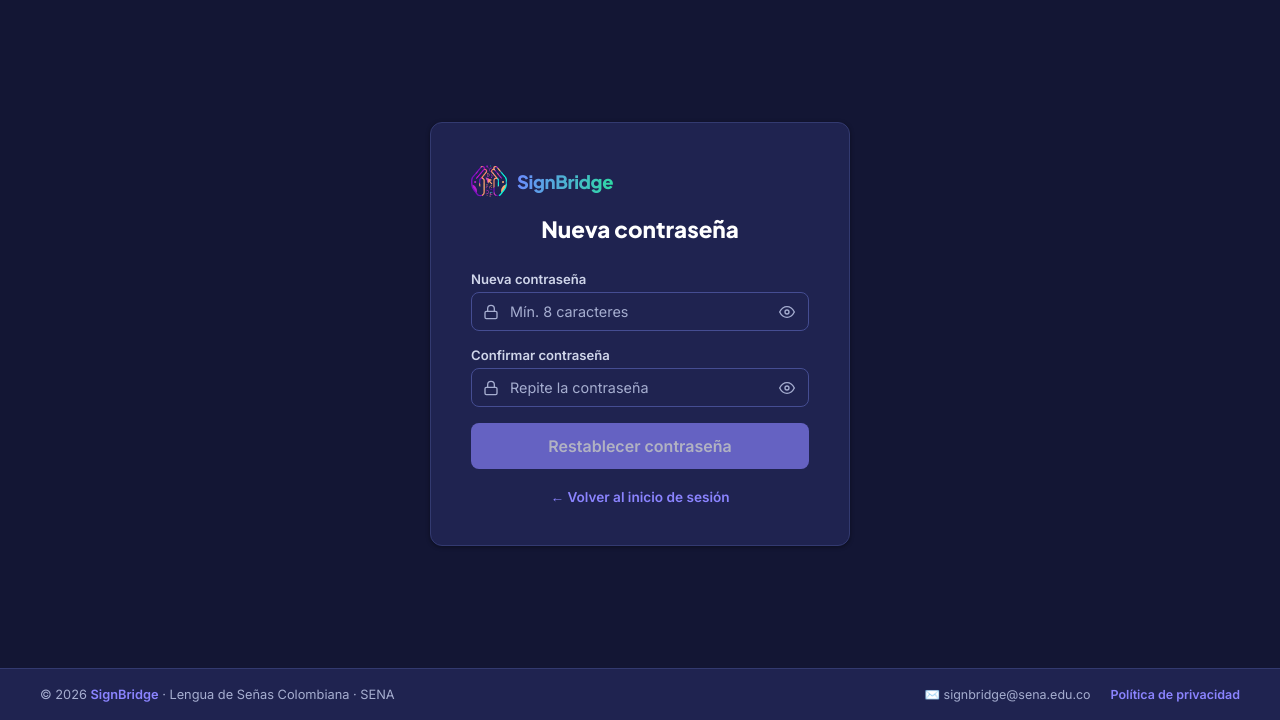
Scenario: ResetPassword › should show the reason when the link expired
Type "Clave123*" into the password field labelled "Nueva contraseña". click: {"x": 640, "y": 312}
box: [471,292,809,331]
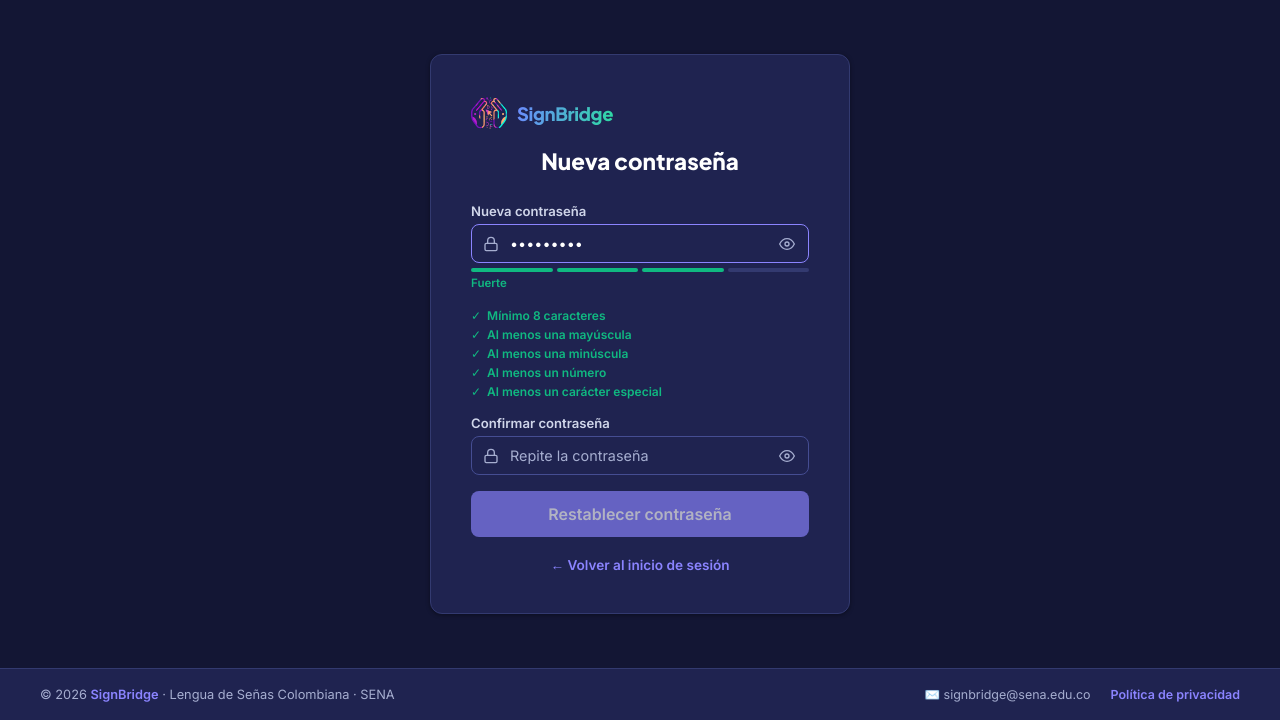
Type "Clave123*" into the password field labelled "Confirmar contraseña". click: {"x": 640, "y": 456}
box: [471,436,809,475]
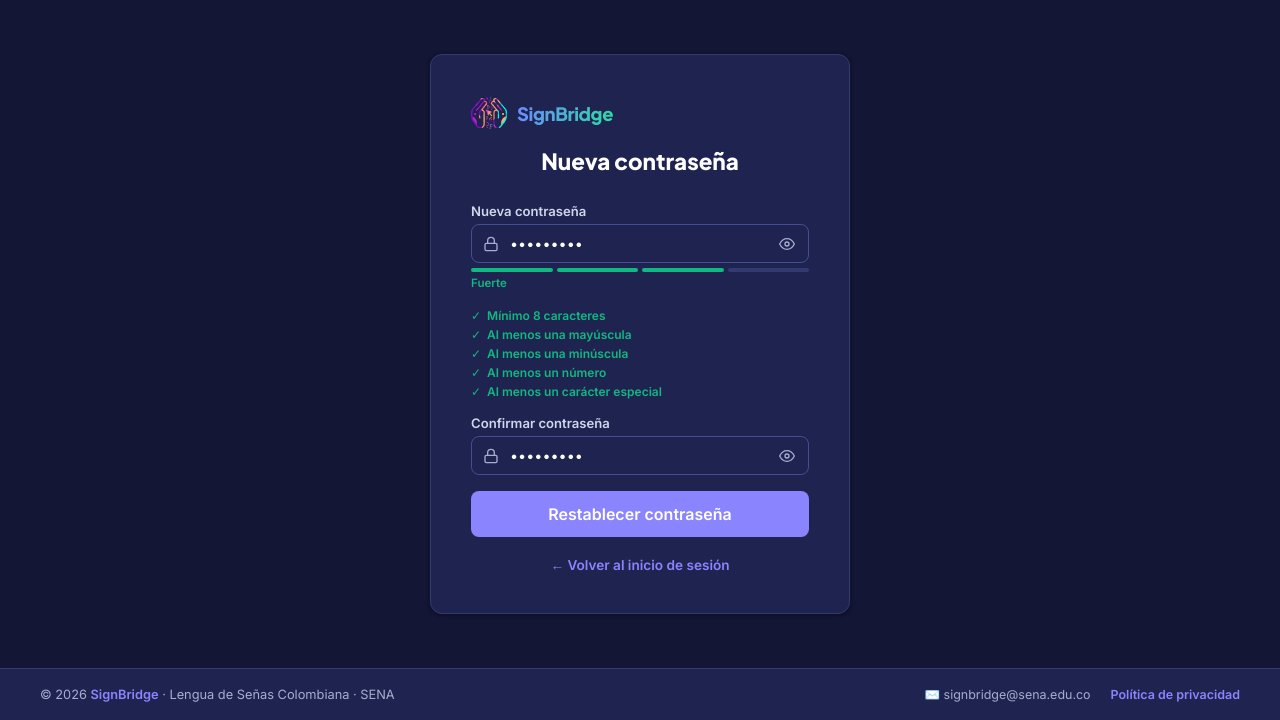
Click the button "Restablecer contraseña". click: {"x": 640, "y": 514}
box: [471,491,809,537]
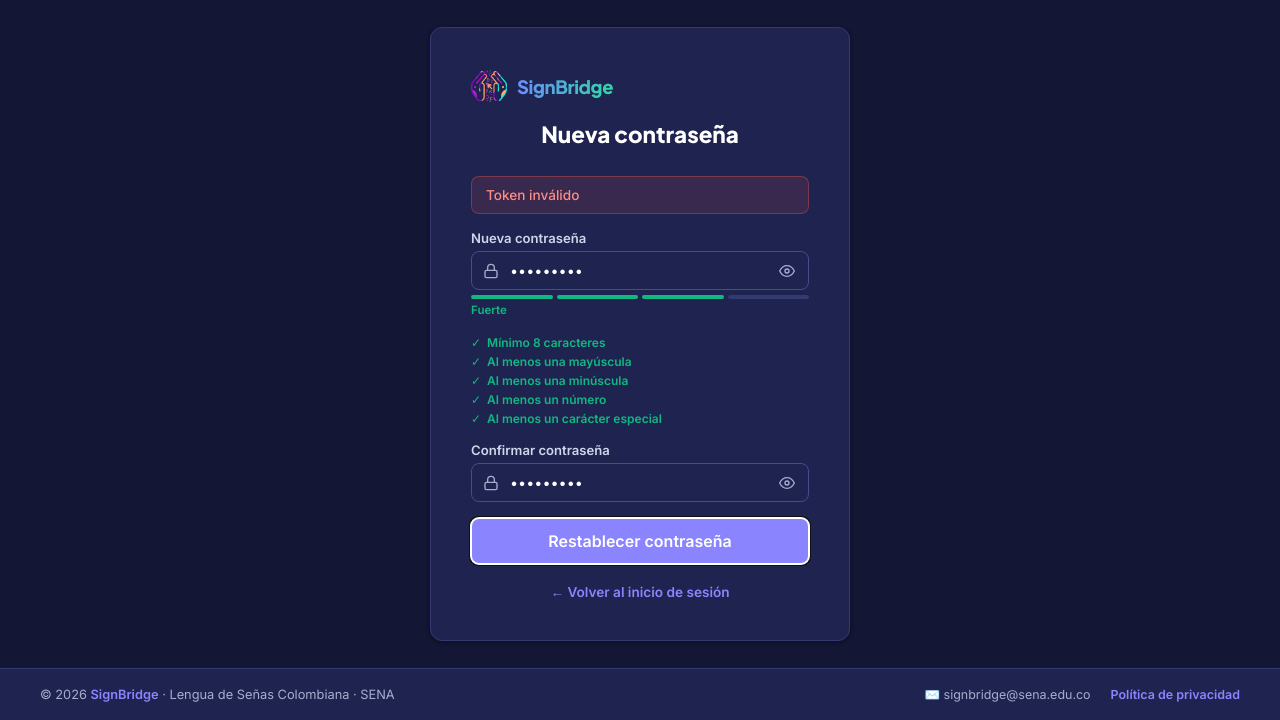
Expected: the message reads "Token inválido", [486,187,579,203]
